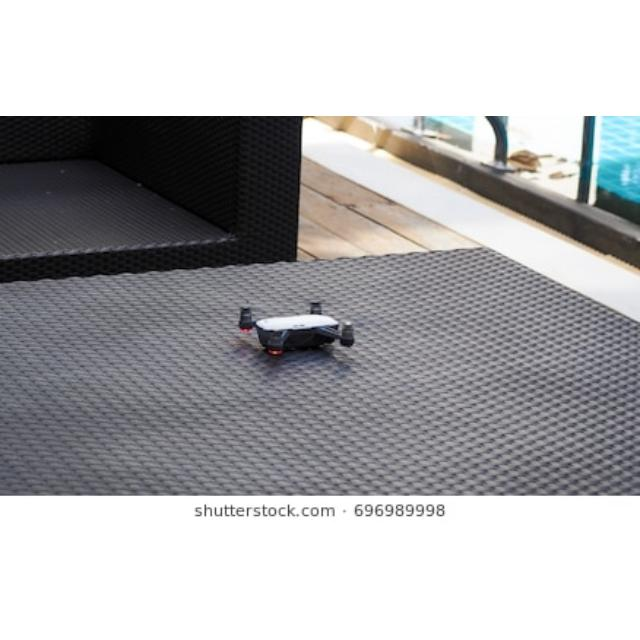Drones: (230, 301, 372, 359)
